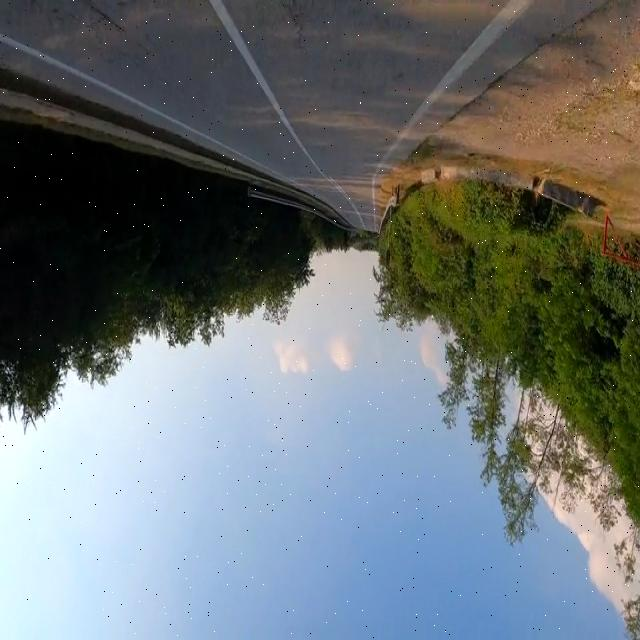lane: (372, 1, 529, 223), (209, 1, 363, 226)
road: (0, 2, 597, 230)
